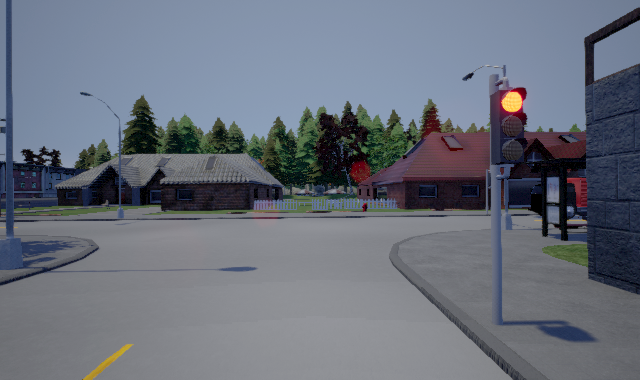traffic_light: (490, 77, 528, 180)
vehicle: (524, 178, 587, 221)
